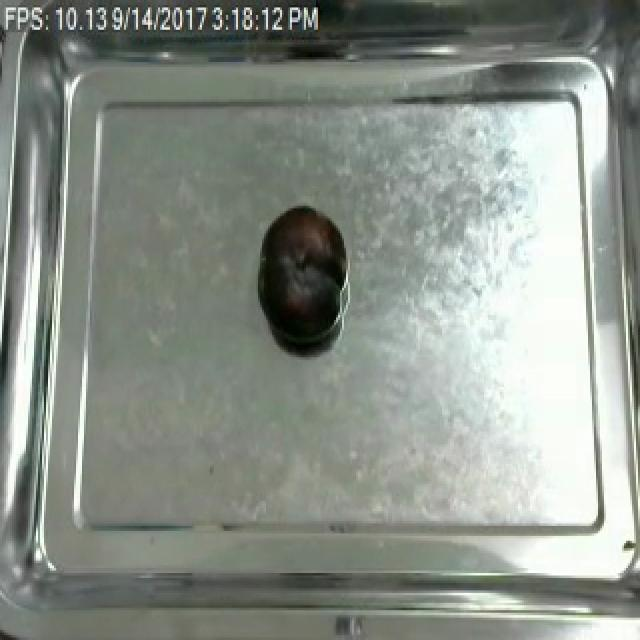Fruit: (254, 201, 348, 347)
